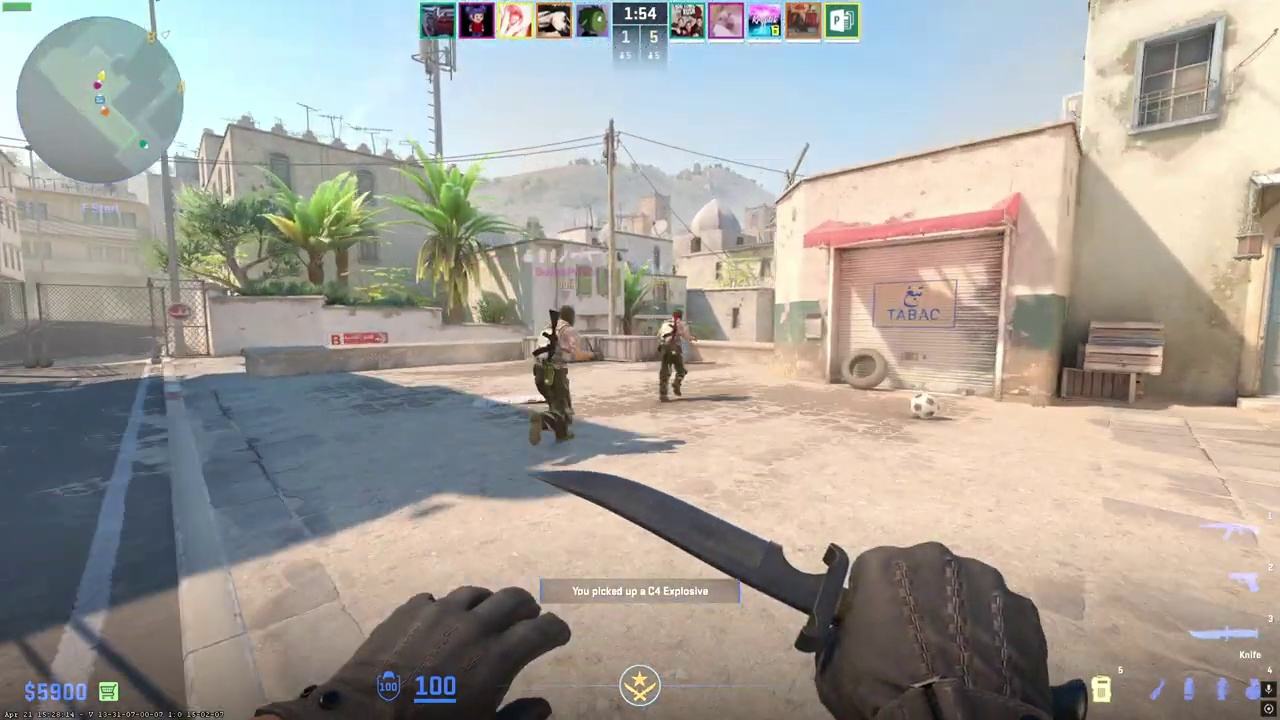Terrorist: (529, 305, 590, 446), (656, 309, 693, 403)
